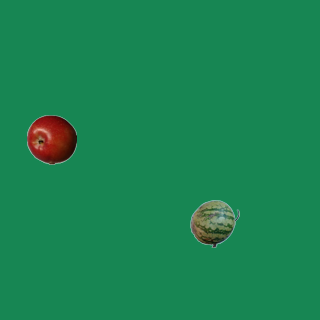Apple Braeburn: (26, 114, 76, 164)
Watermelon: (189, 198, 239, 248)
